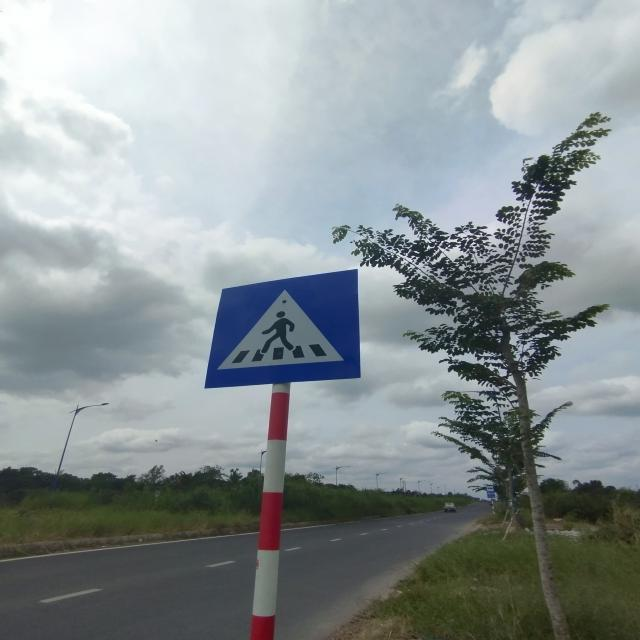Giao_Nhau_Duong_Uu_Tien: (205, 268, 359, 387)
